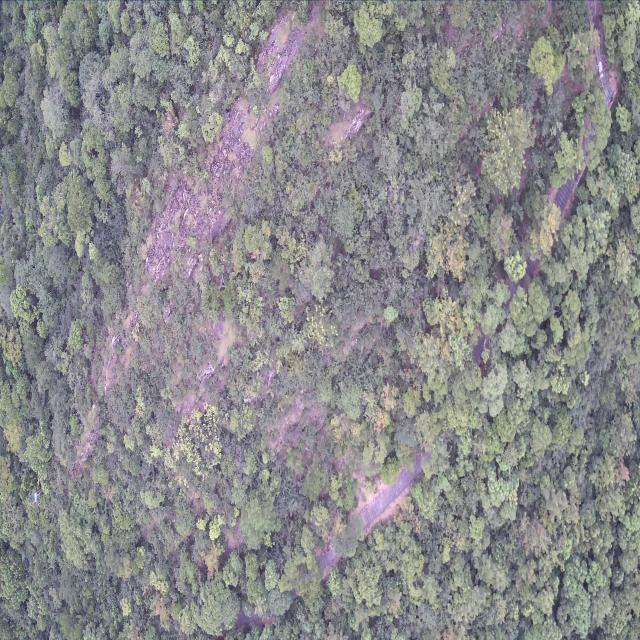UAV: (31, 492, 40, 506)
